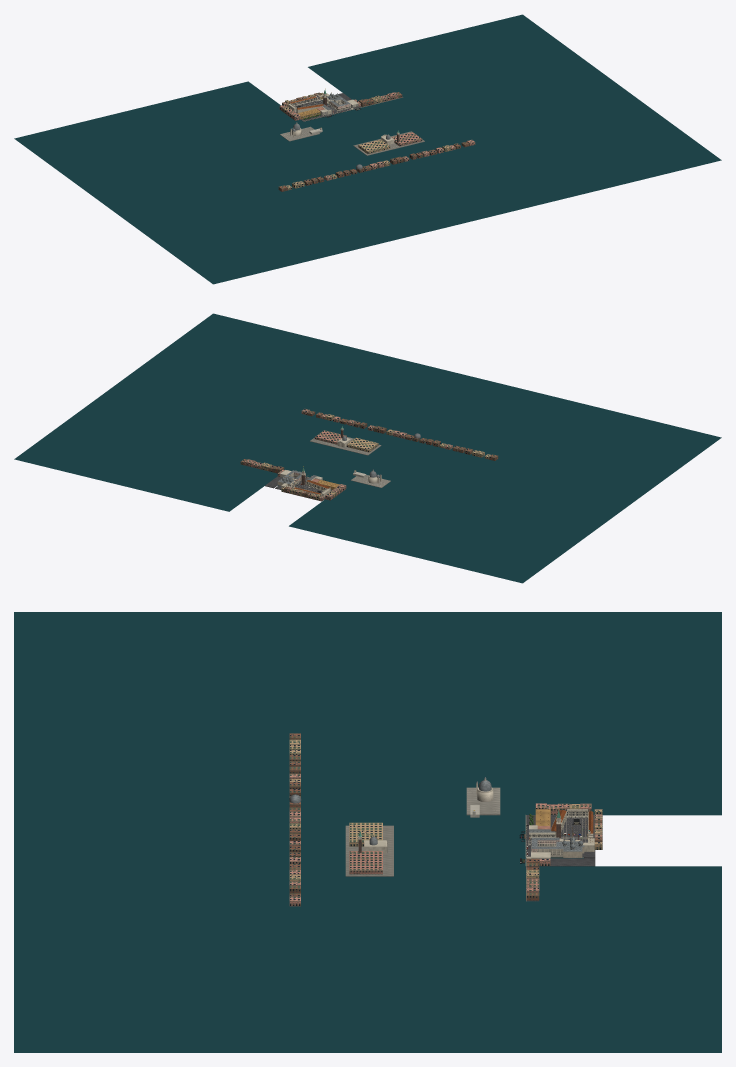
Rendered from venice_lite-Cb5ZxjMV.glb.
3 renders of one model, top to bottom at view 1: azimuth 30°, elevation 25°; view 2: azimuth 150°, elevation 25°; view 3: azimuth 270°, elevation 25°, orthographic. The views are drawn at different scales.
Parts seen in each view (by area): view 1: venice_water, venice_house_pink, venice_istrian, venice_house_red, venice_house_ochre, venice_istrian_dark; view 2: venice_water, venice_house_pink, venice_house_red, venice_house_ochre, venice_istrian, venice_istrian_dark; view 3: venice_water, venice_house_pink, venice_istrian, venice_istrian_dark, venice_house_ochre, venice_house_red, venice_paving, venice_lead.
Part boxes in pixels (left/top/right/bottom): venice_water: left=14, top=14, right=721, bottom=284; venice_house_pink: left=279, top=92, right=475, bottom=180; venice_istrian: left=288, top=93, right=402, bottom=144; venice_house_red: left=278, top=92, right=469, bottom=191; venice_house_ochre: left=282, top=92, right=451, bottom=190; venice_istrian_dark: left=280, top=99, right=424, bottom=155; venice_water: left=14, top=313, right=721, bottom=583; venice_house_pink: left=244, top=409, right=452, bottom=501; venice_house_red: left=240, top=410, right=498, bottom=497; venice_house_ochre: left=260, top=414, right=490, bottom=500; venice_istrian: left=280, top=428, right=381, bottom=497; venice_istrian_dark: left=277, top=437, right=390, bottom=491; venice_water: left=14, top=612, right=721, bottom=1052; venice_house_pink: left=289, top=773, right=602, bottom=906; venice_istrian: left=358, top=779, right=594, bottom=901; venice_istrian_dark: left=345, top=787, right=591, bottom=876; venice_house_ochre: left=289, top=739, right=602, bottom=881; venice_house_red: left=289, top=733, right=602, bottom=900; venice_paving: left=526, top=815, right=595, bottom=901; venice_lead: left=289, top=777, right=584, bottom=851.
Size of the model in its own units: 2800 by 102 by 1900.
Materials: 48 (32 with a texture image).
